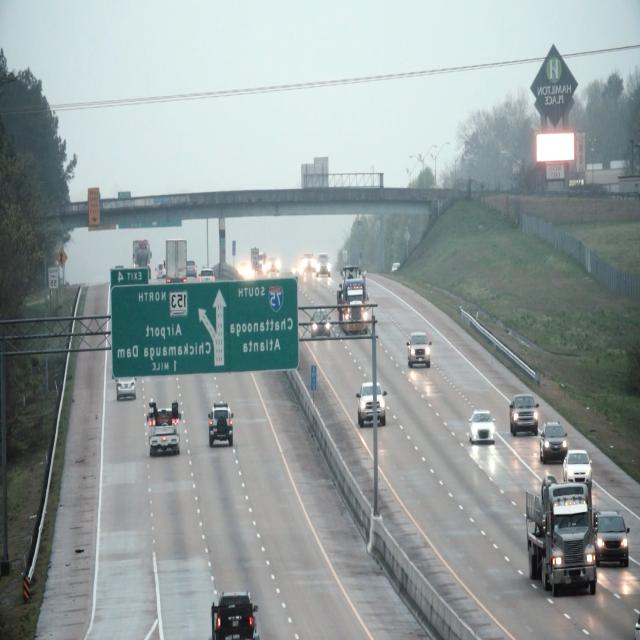Vehicle: (524, 483, 594, 597), (337, 268, 372, 336), (147, 398, 184, 459), (210, 591, 255, 640), (593, 508, 628, 570), (355, 384, 388, 431), (538, 413, 567, 464), (206, 398, 233, 449), (562, 445, 592, 490), (509, 387, 535, 435), (468, 407, 495, 444), (406, 331, 432, 368), (309, 305, 331, 341)
